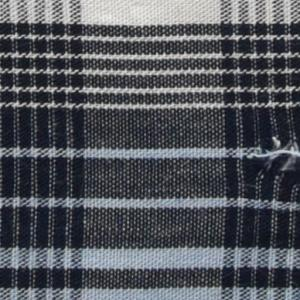Damage: (245, 122, 300, 192)
